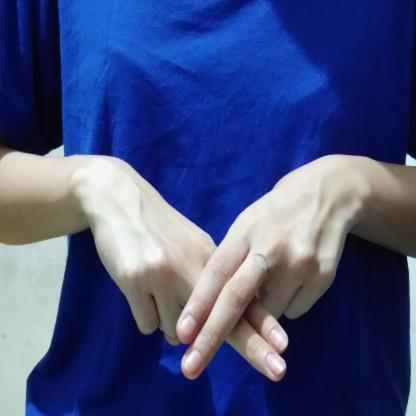father: (65, 144, 393, 400)
